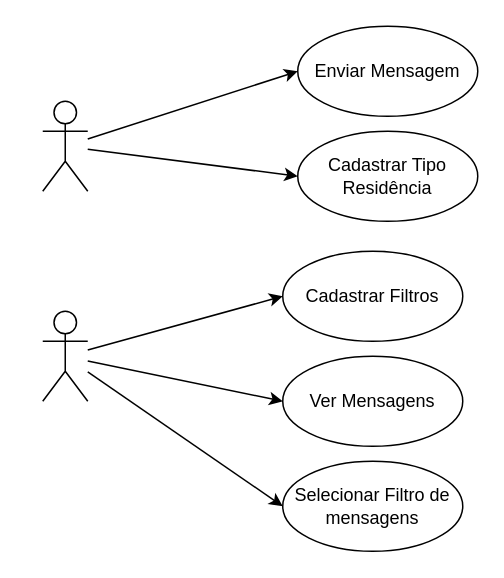
The diagram is 504 pixels wide and 578 high, and some of its shapes have lost their labels. Here are the shapes that lost their labels. From the top down, the centre of each, then its label:
At pixel 64 145: "Publisher".
At pixel 64 355: "Subscribe".
